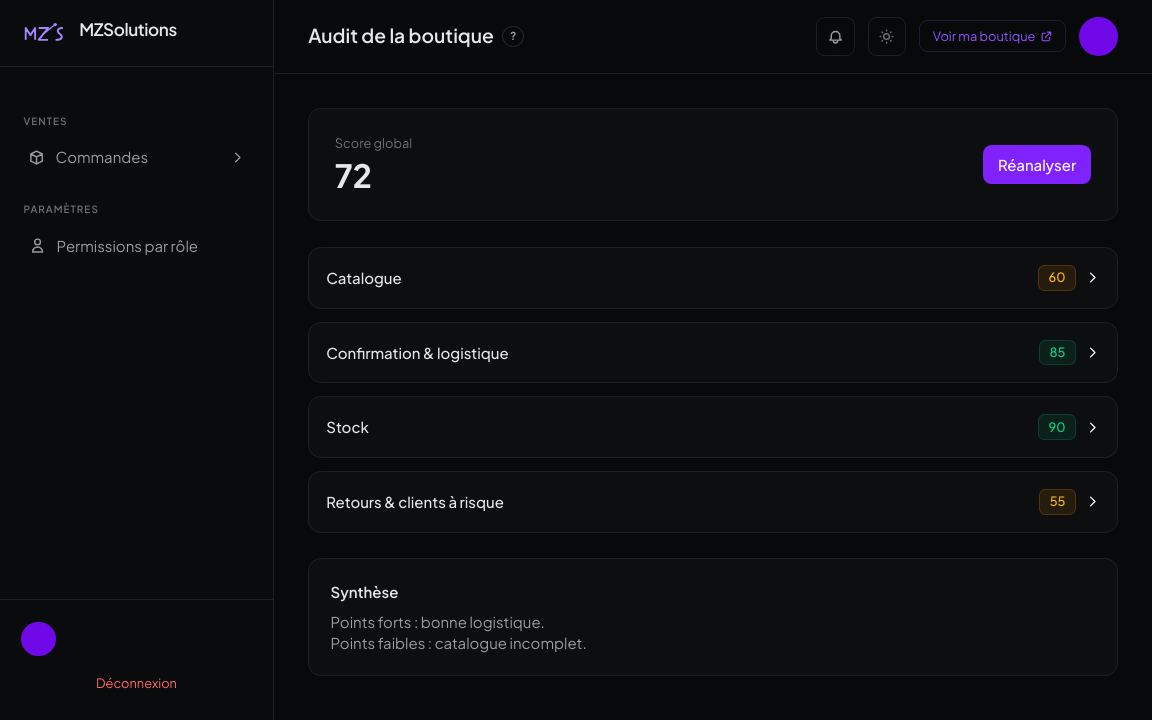
Scenario: StoreAuditPage › affiche la commande en retard dans la section Confirmation & logistique dépliée
Expected: the text "72" is shown, x1=335 y1=155 x2=372 y2=195
Click the text "Confirmation & logistique" at (418, 352), box x1=326 y1=342 x2=509 y2=363
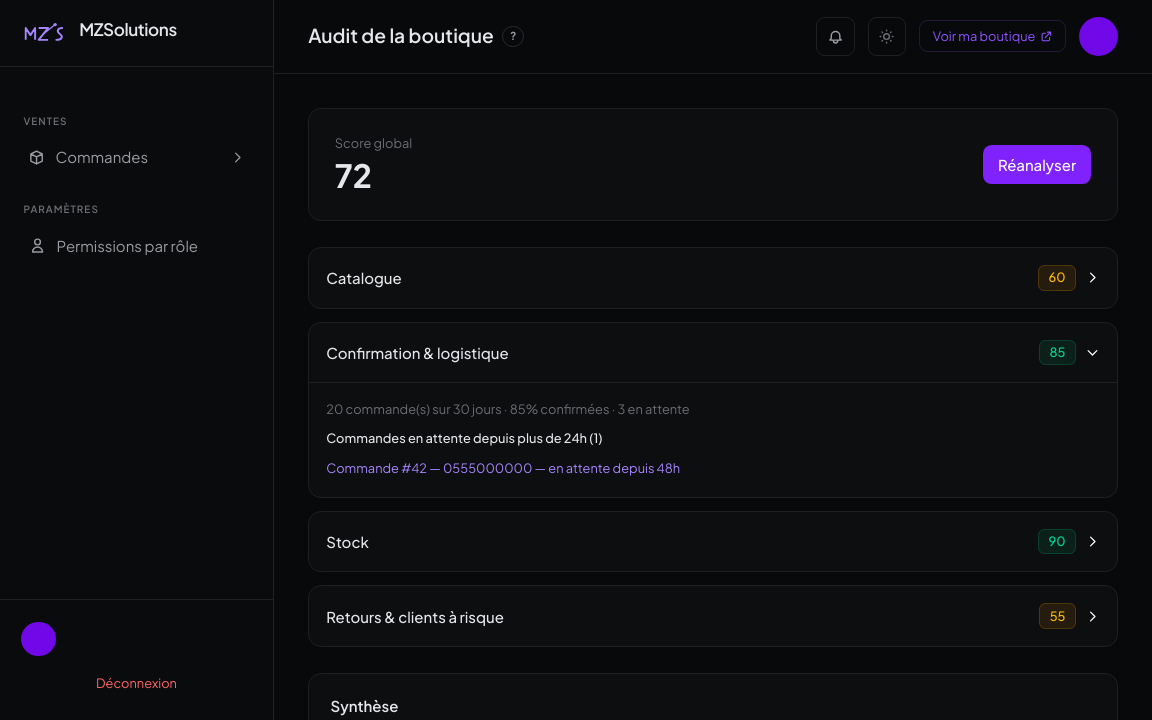
Expected: the link "Commande #42 — 0555000000 — en attente depuis 48h" is shown, x1=326 y1=460 x2=680 y2=476
